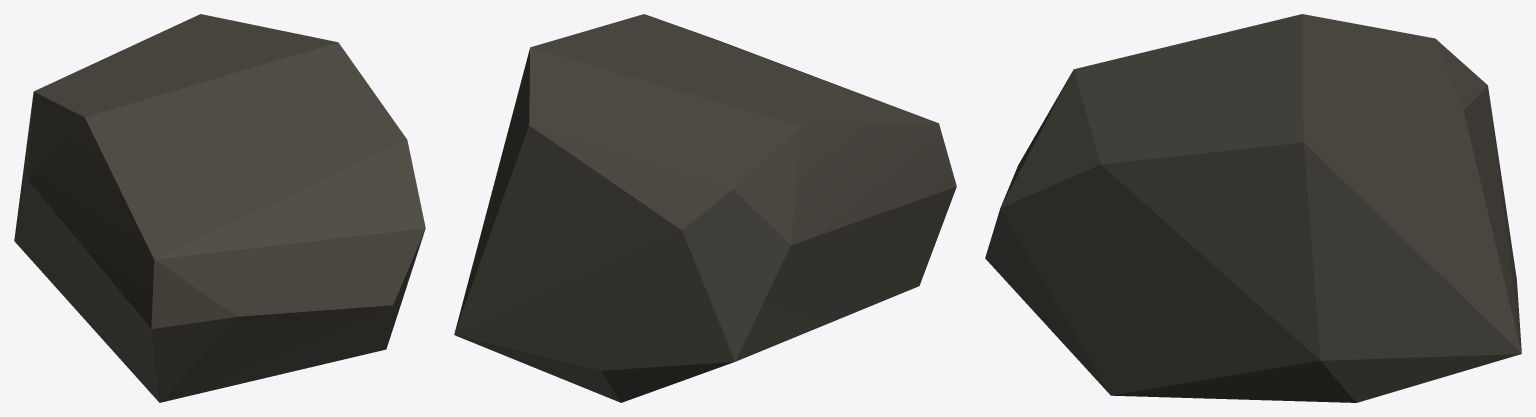
Rendered from synty-rock-small-02.gltf.
The picture shows the model from 3 angles, left to right: view 1: azimuth 30°, elevation 25°; view 2: azimuth 150°, elevation 25°; view 3: azimuth 270°, elevation 25°; orthographic projection. The views are drawn at different scales.
Visible parts, largest first — view 1: SM_Rock_Small_02; view 2: SM_Rock_Small_02; view 3: SM_Rock_Small_02.
Boxes of the visible parts, x1,y1,x2,y2 form: SM_Rock_Small_02: (14, 14, 425, 402); SM_Rock_Small_02: (454, 14, 956, 402); SM_Rock_Small_02: (985, 14, 1521, 402).
Bounding box in the file's own units: 0.392 × 0.2873 × 0.5112.
Materials: 1 (1 with a texture image).
